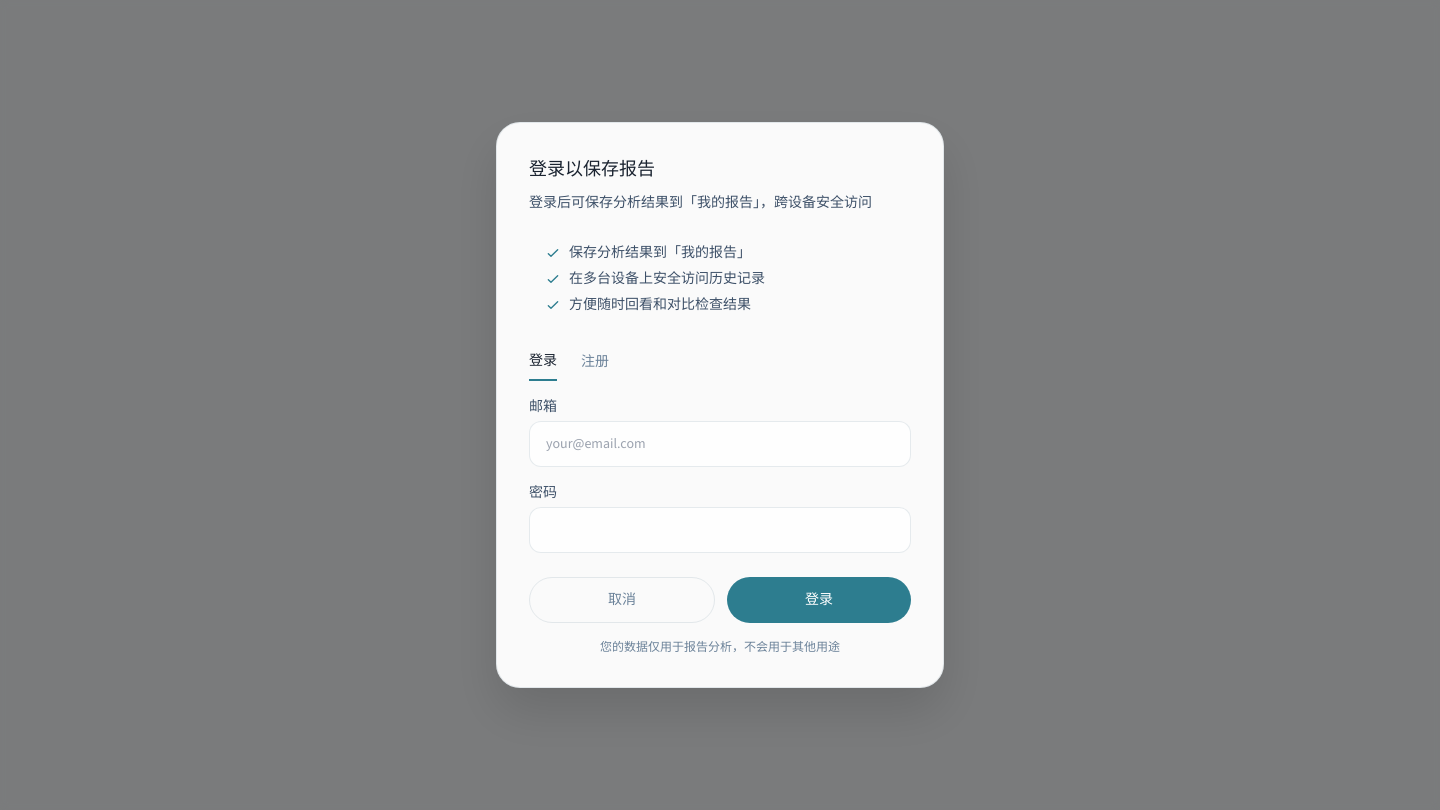
Test: AuthModal › shows a rate-limit message for failed logins
Type "doctor@example.com" into the field labelled "邮箱" at (720, 444), box [529,421,911,467]
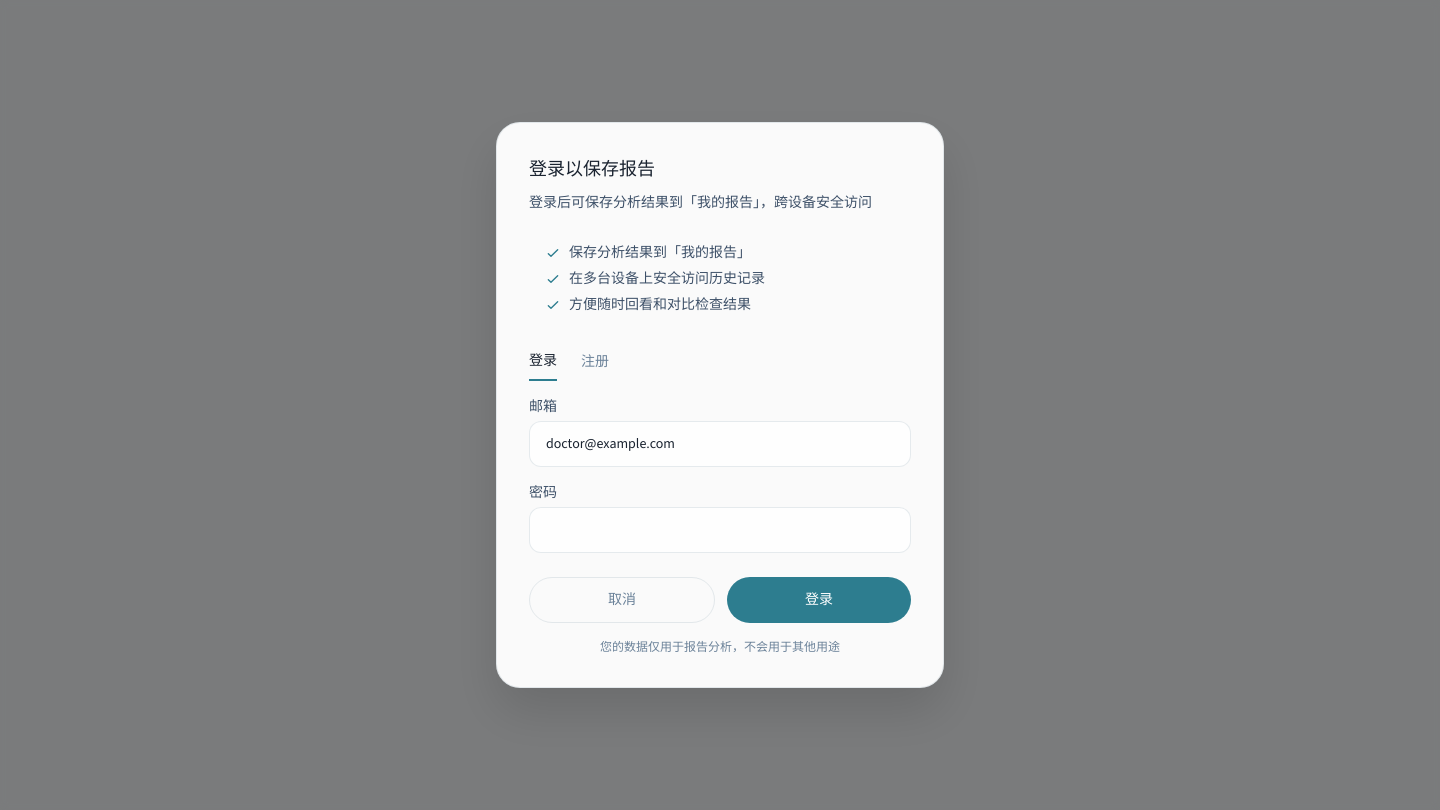
Type "password123" into the password field labelled "密码" at (720, 530), box [529,507,911,553]
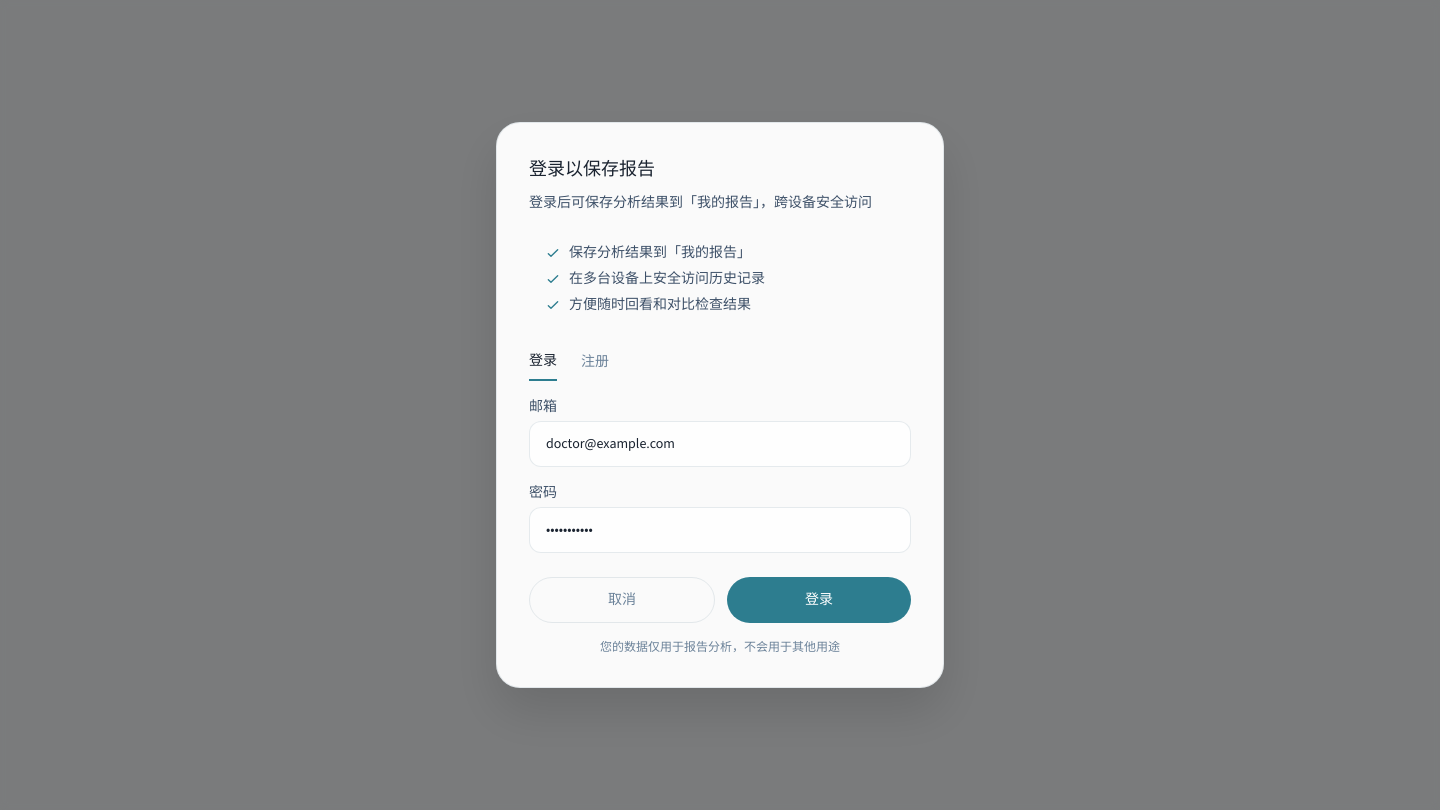
Click the button "登录" below "密码" at (819, 600), box [727,577,911,623]
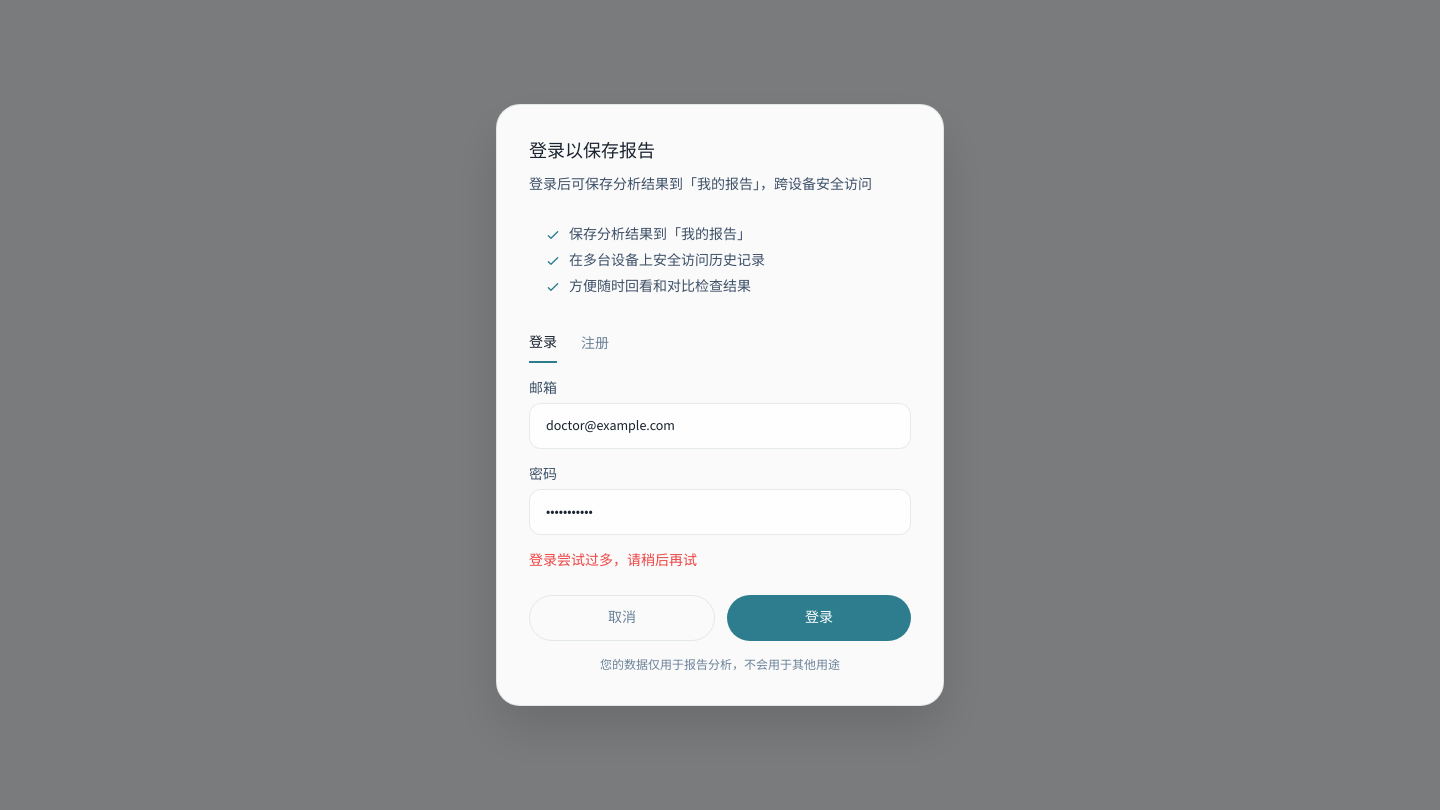
Now the text "登录尝试过多，请稍后再试" is shown, box [529,551,697,570]
